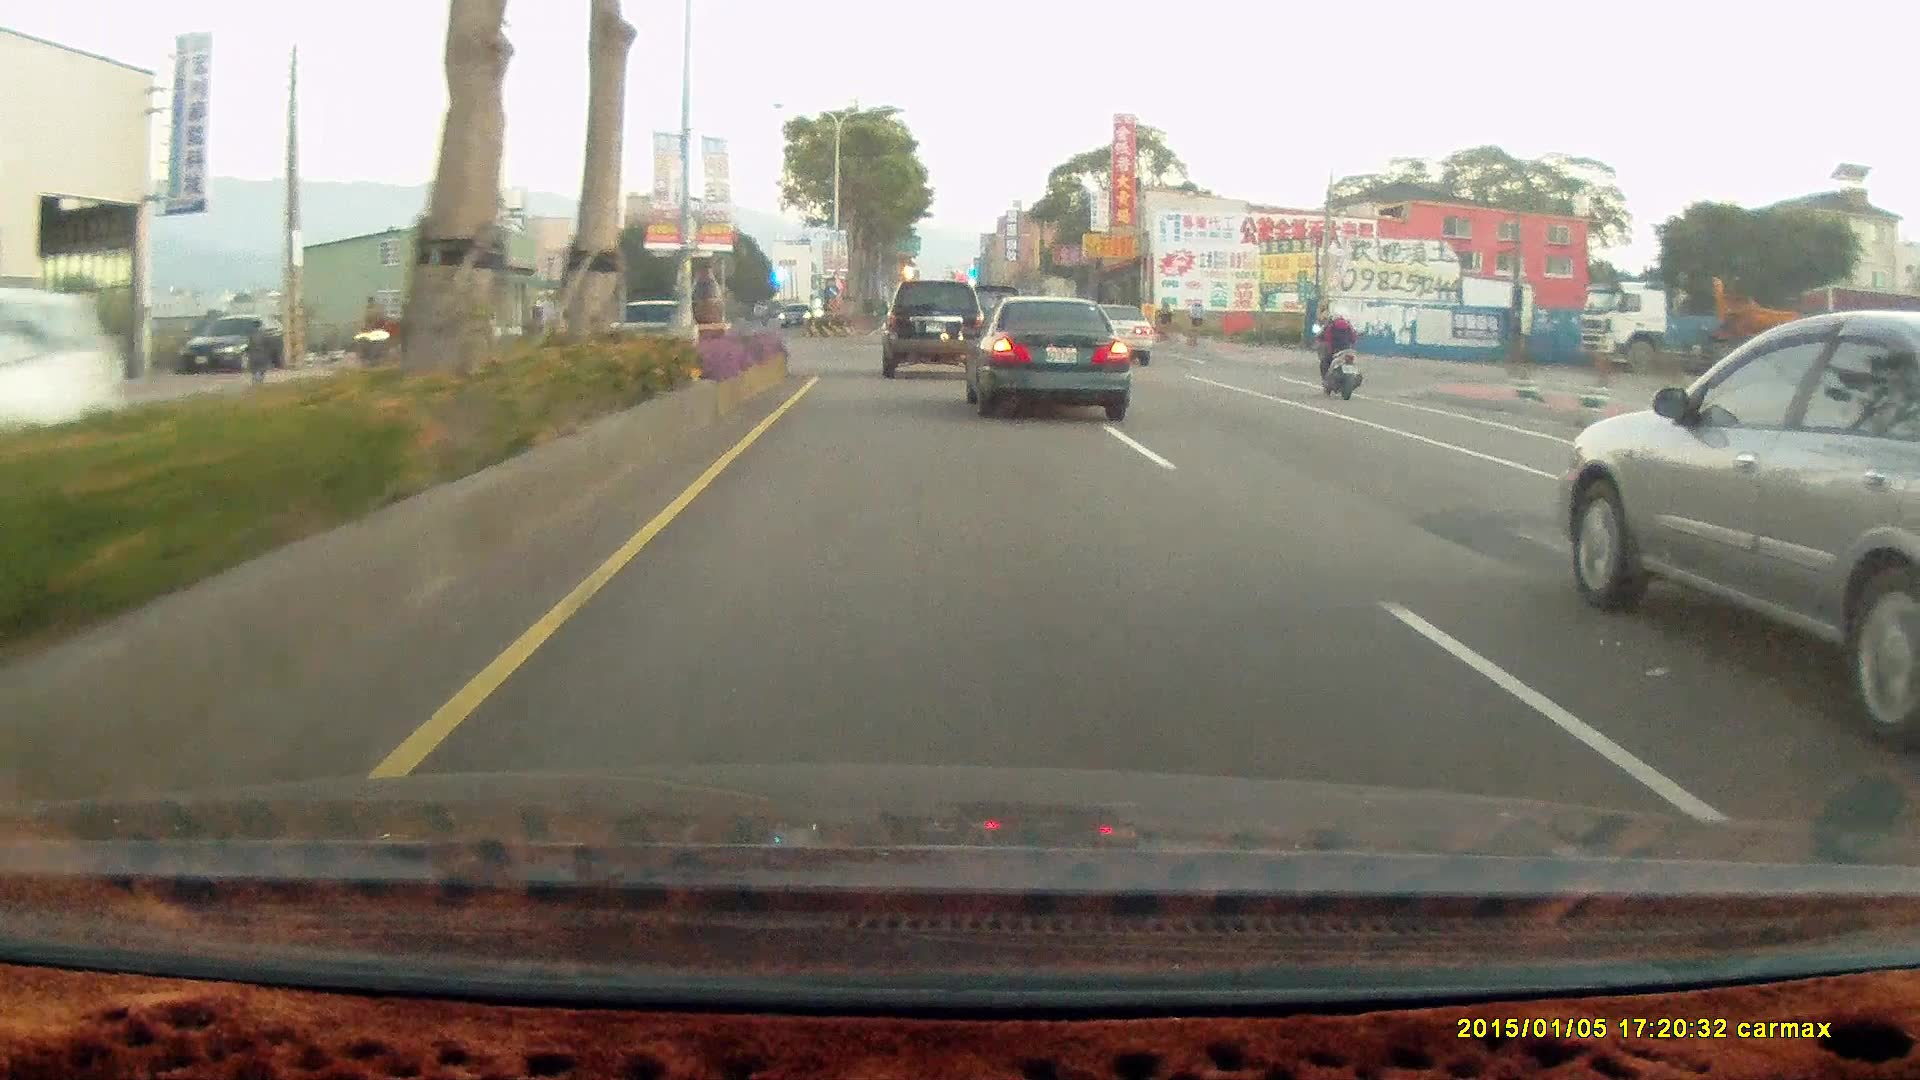pedestrian: (243, 317, 269, 385)
rider: (1303, 297, 1372, 407), (1309, 292, 1365, 389), (346, 300, 402, 383)
vehicle: (1553, 310, 1920, 747), (1577, 278, 1920, 376), (0, 285, 126, 505), (956, 289, 1126, 413), (969, 293, 1135, 414), (880, 274, 990, 374), (879, 277, 983, 378), (602, 296, 705, 366), (179, 312, 280, 371), (1075, 301, 1157, 368), (776, 302, 813, 327)
